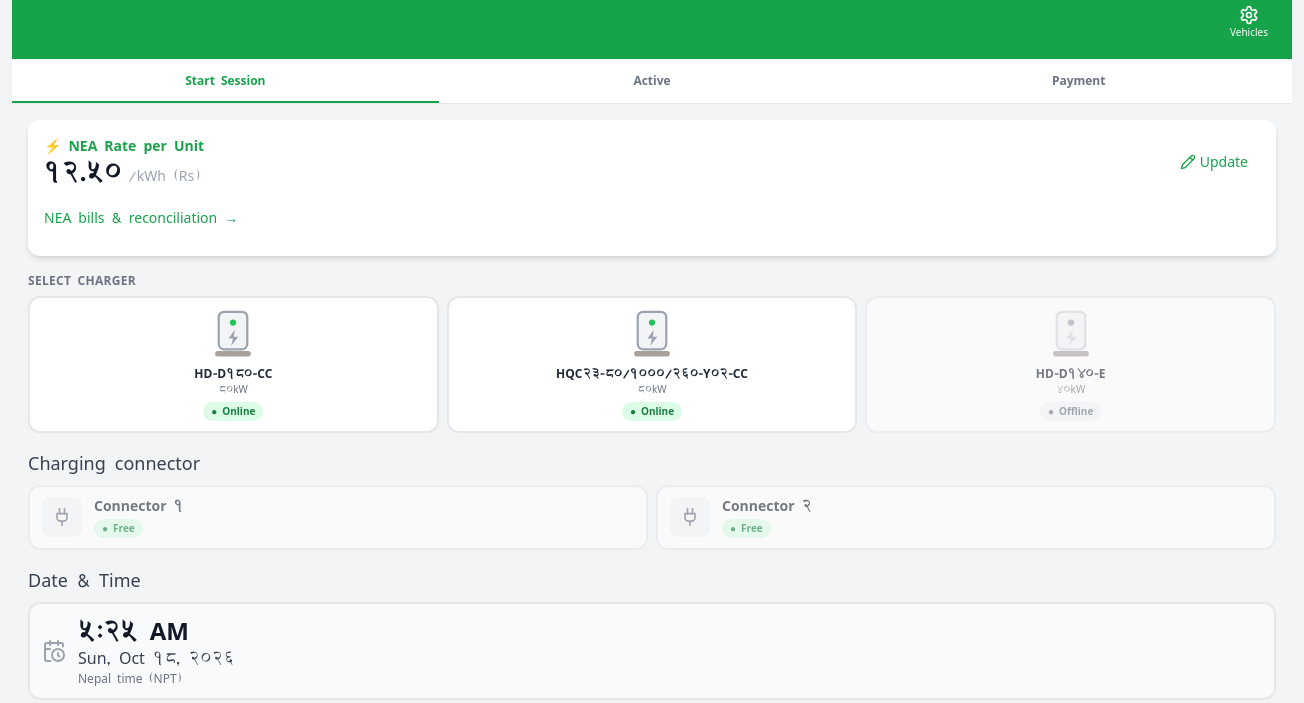
EVEntryPage › starting a session › rejects a target of 0%
Click the radio button labelled "HD-D180-CC 80kW ● Online". click: (233, 364)
box: x1=28 y1=296 x2=439 y2=432
(page scrolled)
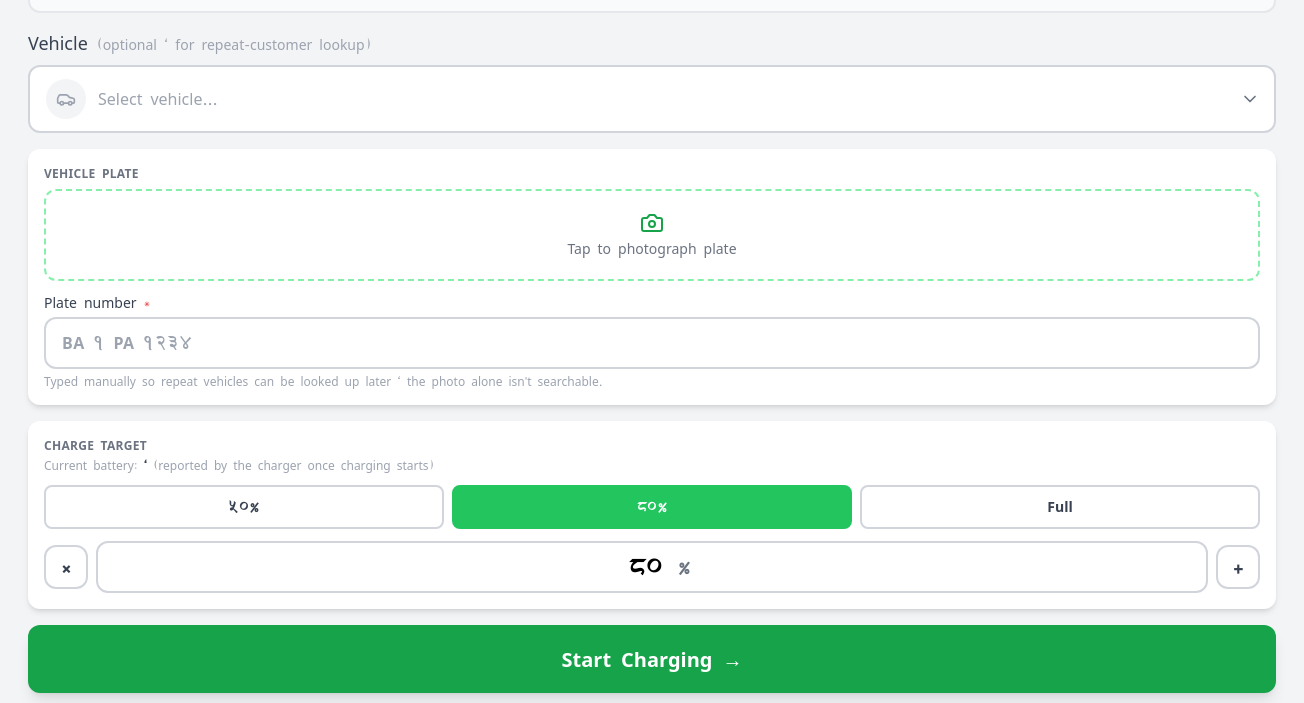
Type "ba 1 pa 4521" into the field labelled "Plate number *". click: (652, 343)
box: x1=44 y1=317 x2=1260 y2=369
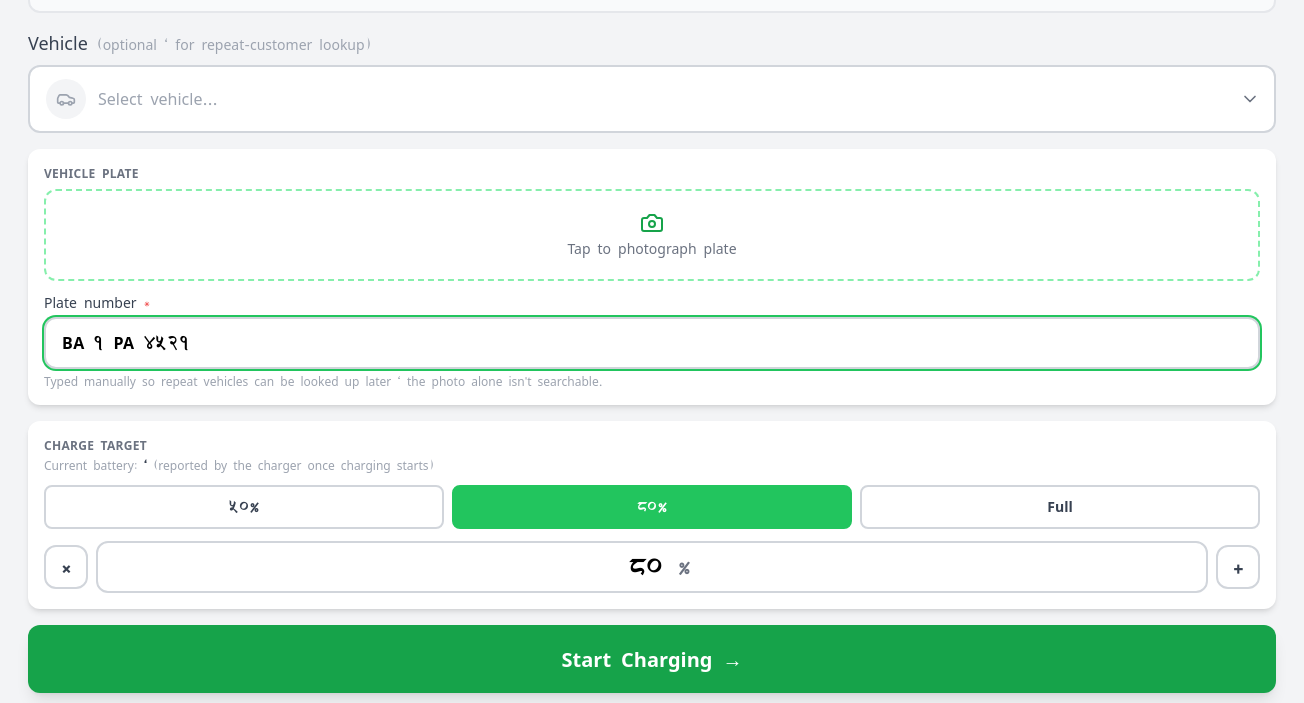
Replace the text in the number field named "Target battery %" with "0". click: (645, 567)
box: x1=613 y1=551 x2=677 y2=583
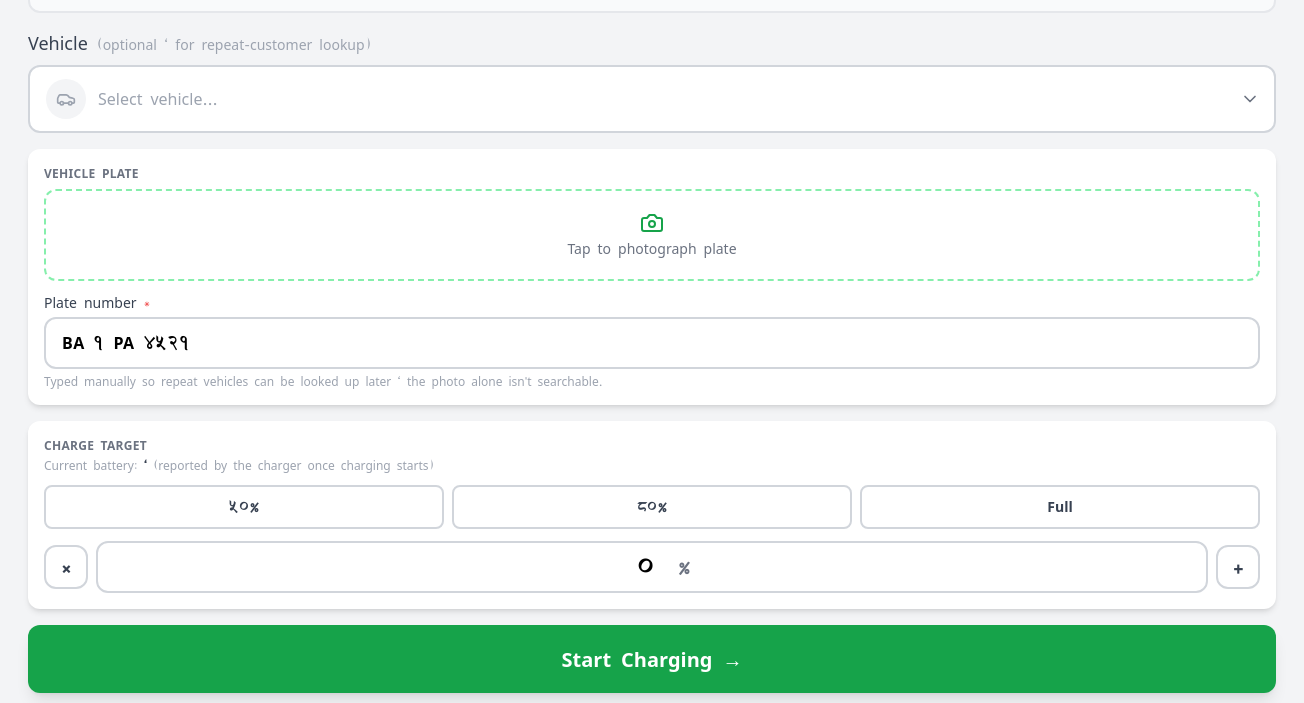
Click the button "Start Charging →". click: (652, 659)
box: x1=28 y1=625 x2=1276 y2=693
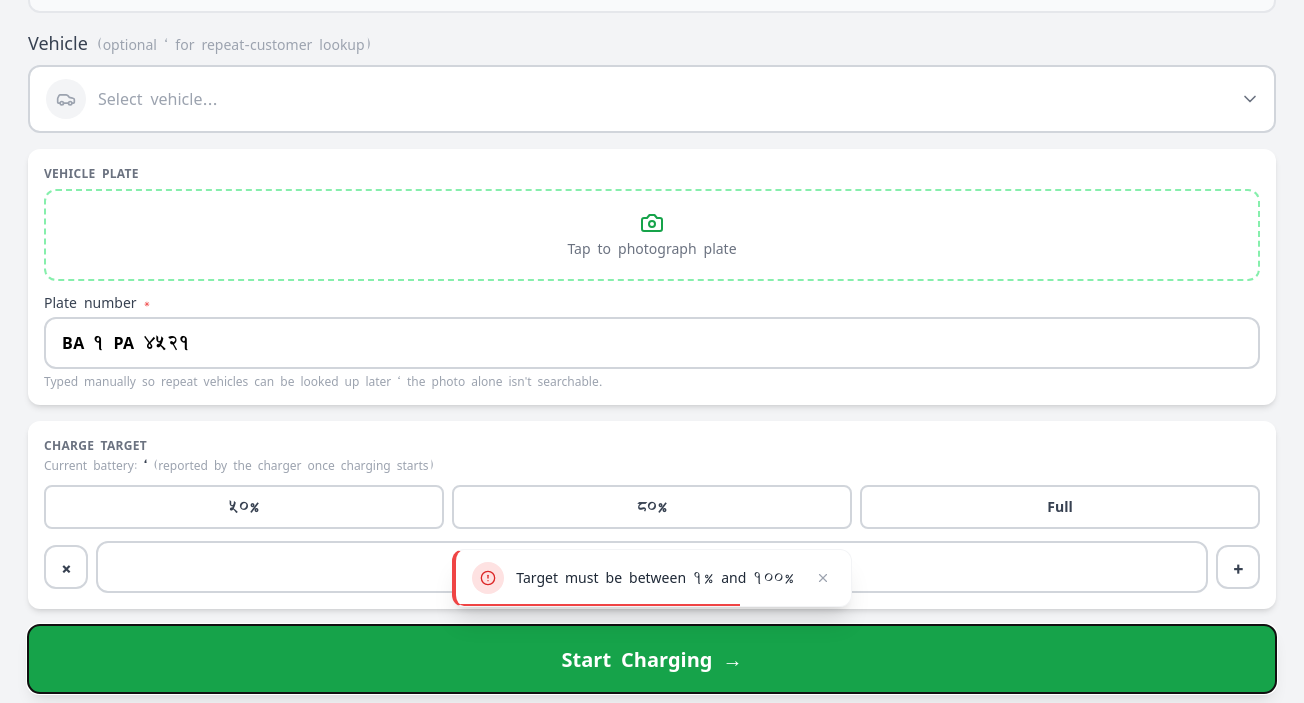
Expected: the text "Target must be between 1% and 100%" is shown, x1=516 y1=568 x2=799 y2=588
